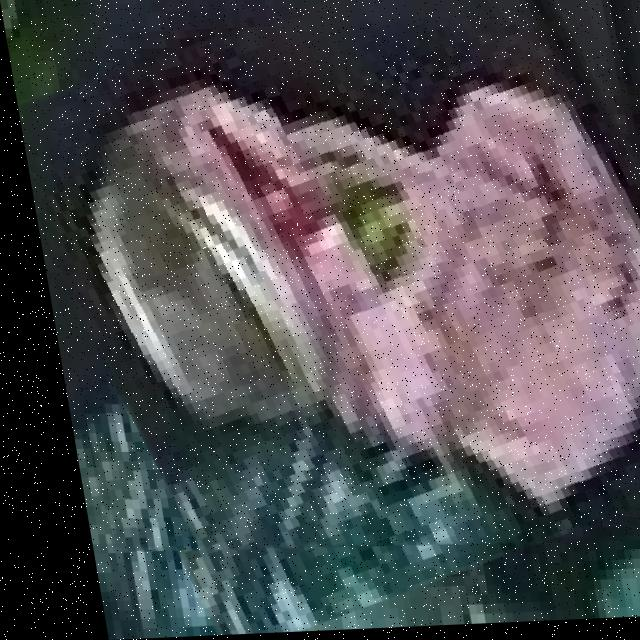can: (23, 19, 640, 548)
